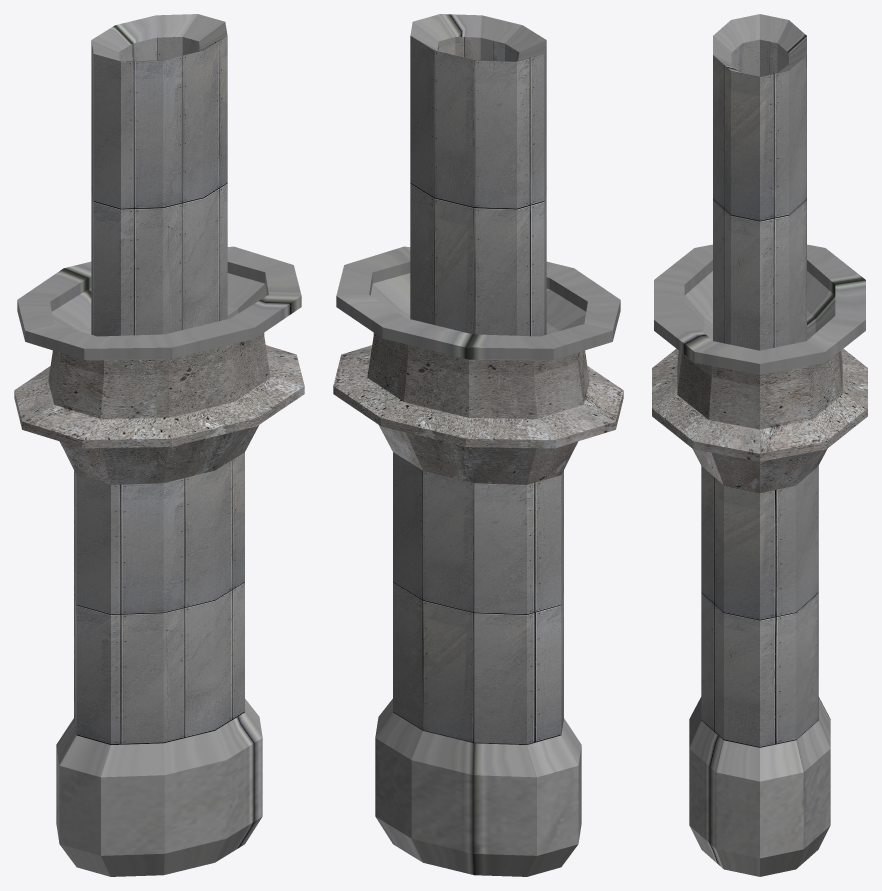
The model's file is TowerSmall.fbx.
The picture shows the model from 3 angles, left to right: view 1: azimuth 30°, elevation 25°; view 2: azimuth 150°, elevation 25°; view 3: azimuth 270°, elevation 25°; orthographic projection. The views are drawn at different scales.
Visible parts, largest first — view 1: pCylinder11; view 2: pCylinder11; view 3: pCylinder11.
Boxes of the visible parts, bbox=[...] form: pCylinder11: bbox=[14, 14, 304, 876]; pCylinder11: bbox=[333, 14, 623, 876]; pCylinder11: bbox=[652, 14, 867, 876].
Size of the model in its own units: 224 by 630 by 156.
Materials: 2 (2 with a texture image).
